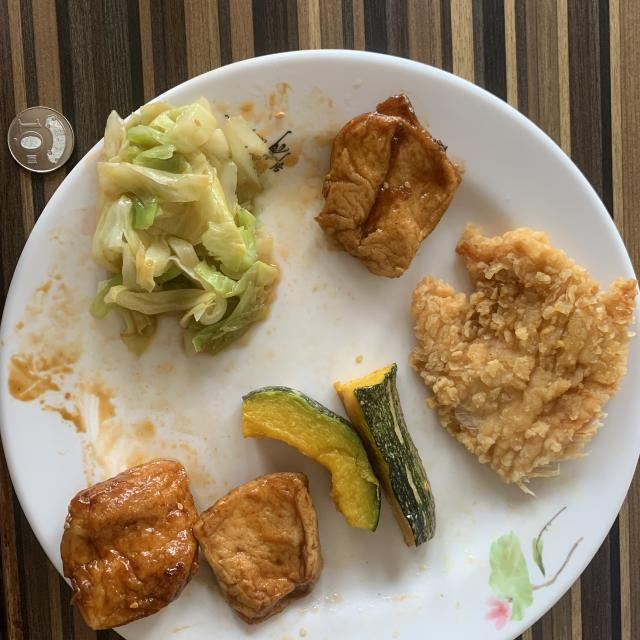cabbage: (91, 98, 278, 352)
coin: (8, 106, 74, 172)
creamy tofu: (61, 460, 322, 629), (315, 95, 461, 278)
fried chicken cutlet: (409, 225, 638, 492)
pumpkin: (242, 364, 435, 546)
